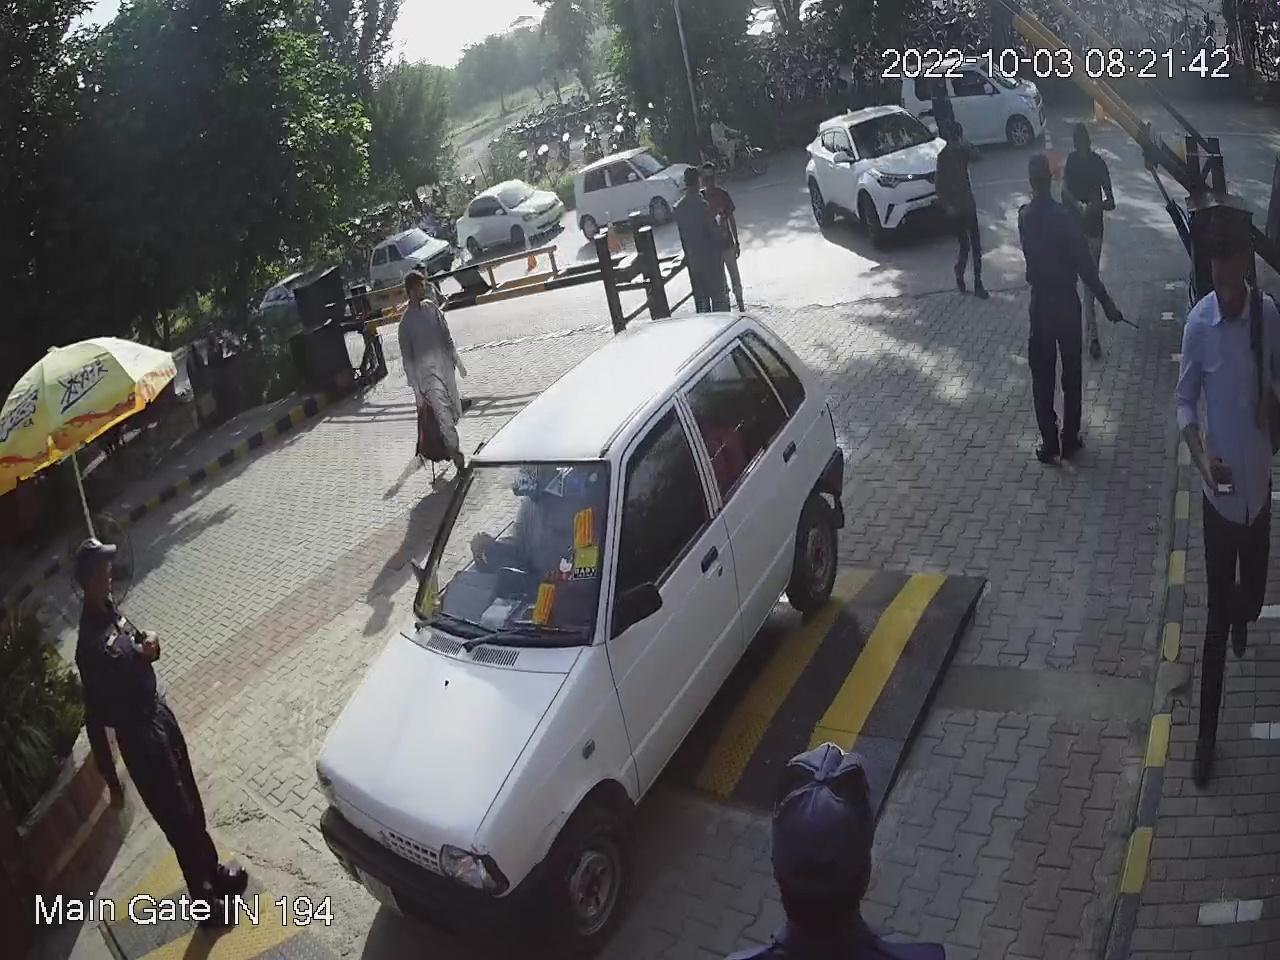windshield: (413, 455, 623, 657)
